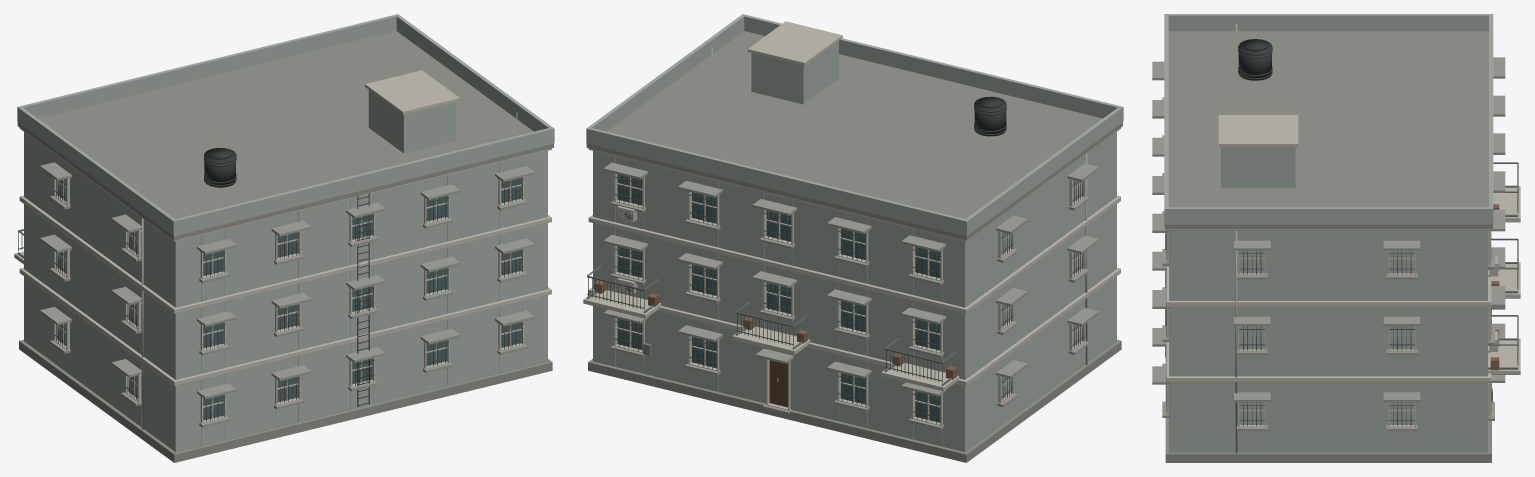
The model's file is apartments_3.glb.
The picture shows the model from 3 angles, left to right: view 1: azimuth 30°, elevation 25°; view 2: azimuth 150°, elevation 25°; view 3: azimuth 270°, elevation 25°; orthographic projection. The views are drawn at different scales.
Parts seen in each view (by area): view 1: apartments_3; view 2: apartments_3; view 3: apartments_3.
Boxes of the visible parts, bbox=[...] form: apartments_3: bbox=[14, 14, 554, 462]; apartments_3: bbox=[583, 14, 1123, 462]; apartments_3: bbox=[1152, 14, 1520, 462].
Bounding box in the file's own units: 18.33 × 11.81 × 13.88.
